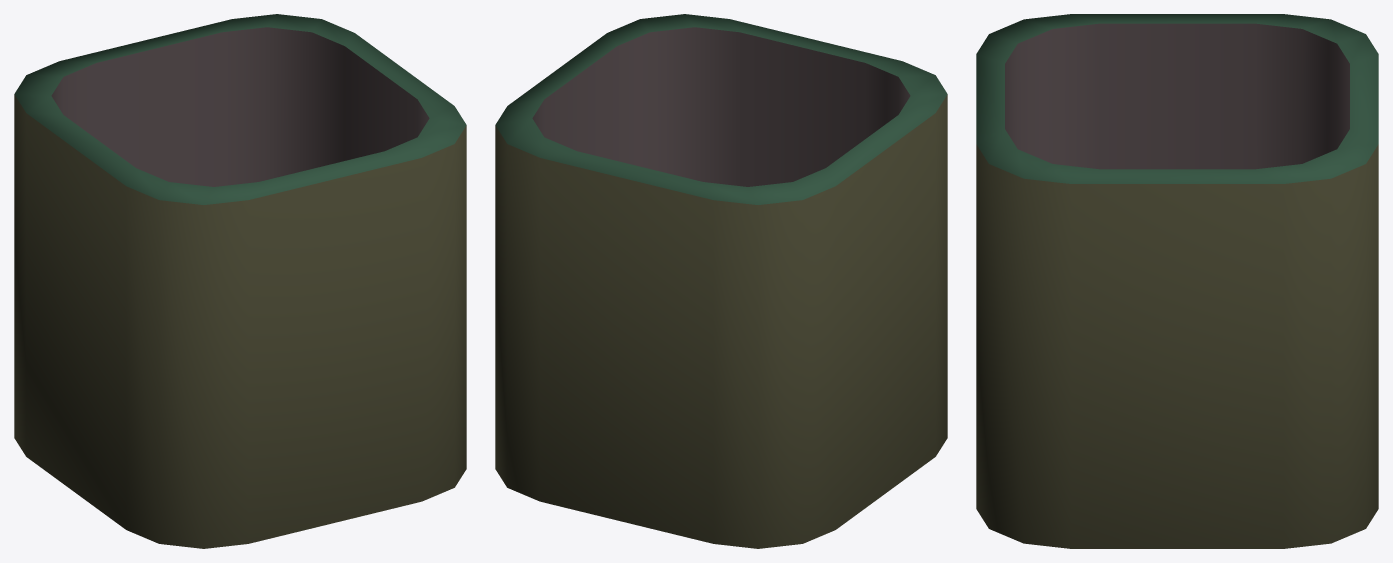
The model's file is Trashcan.fbx.
The picture shows the model from 3 angles, left to right: view 1: azimuth 30°, elevation 25°; view 2: azimuth 150°, elevation 25°; view 3: azimuth 270°, elevation 25°; orthographic projection. The views are drawn at different scales.
Visible parts, largest first — view 1: Cube; view 2: Cube; view 3: Cube.
Part boxes in pixels (box(x1,y1,x2,y2)): Cube: box(14, 14, 466, 548); Cube: box(495, 14, 947, 548); Cube: box(976, 14, 1378, 548).
Size of the model in its own units: 200 by 200 by 201.
